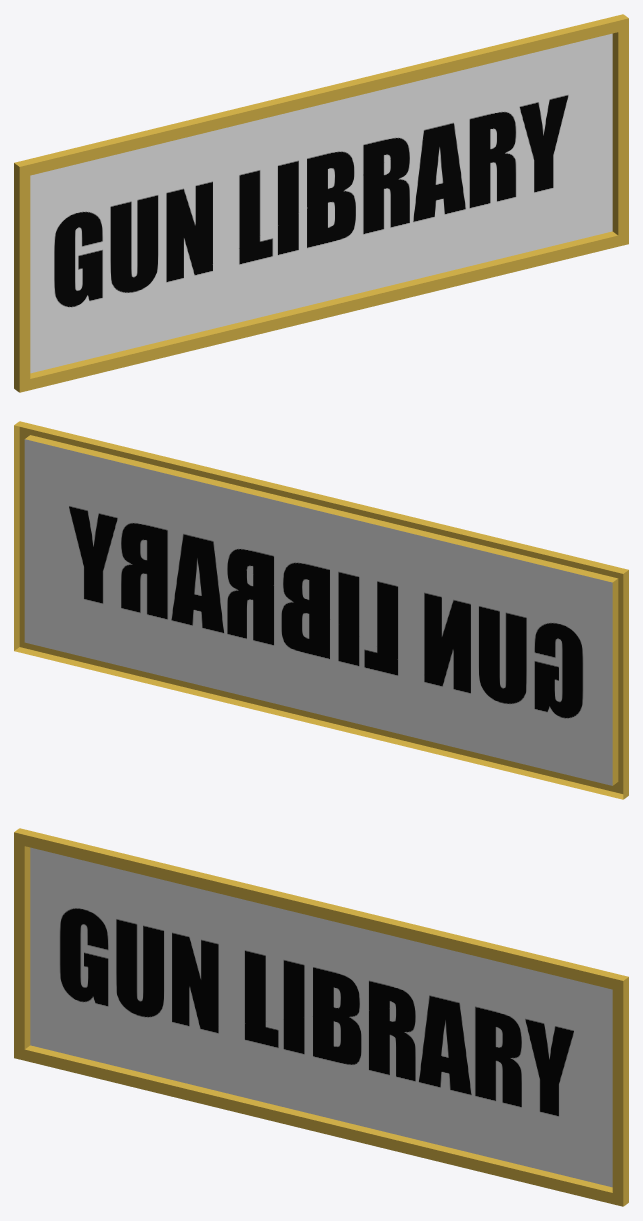
Rendered from GUNLIBRARY.glb.
3 renders of one model, top to bottom at view 1: azimuth 30°, elevation 25°; view 2: azimuth 150°, elevation 25°; view 3: azimuth 330°, elevation 25°, orthographic.
Visible parts, largest first — view 1: Plane; view 2: Plane; view 3: Plane.
Boxes of the visible parts, x1,y1,x2,y2 form: Plane: [14, 14, 628, 392]; Plane: [14, 421, 628, 799]; Plane: [14, 828, 628, 1206].
Size of the model in its own units: 6.21 by 2.2 by 0.1.
Materials: 2 (1 with a texture image).
